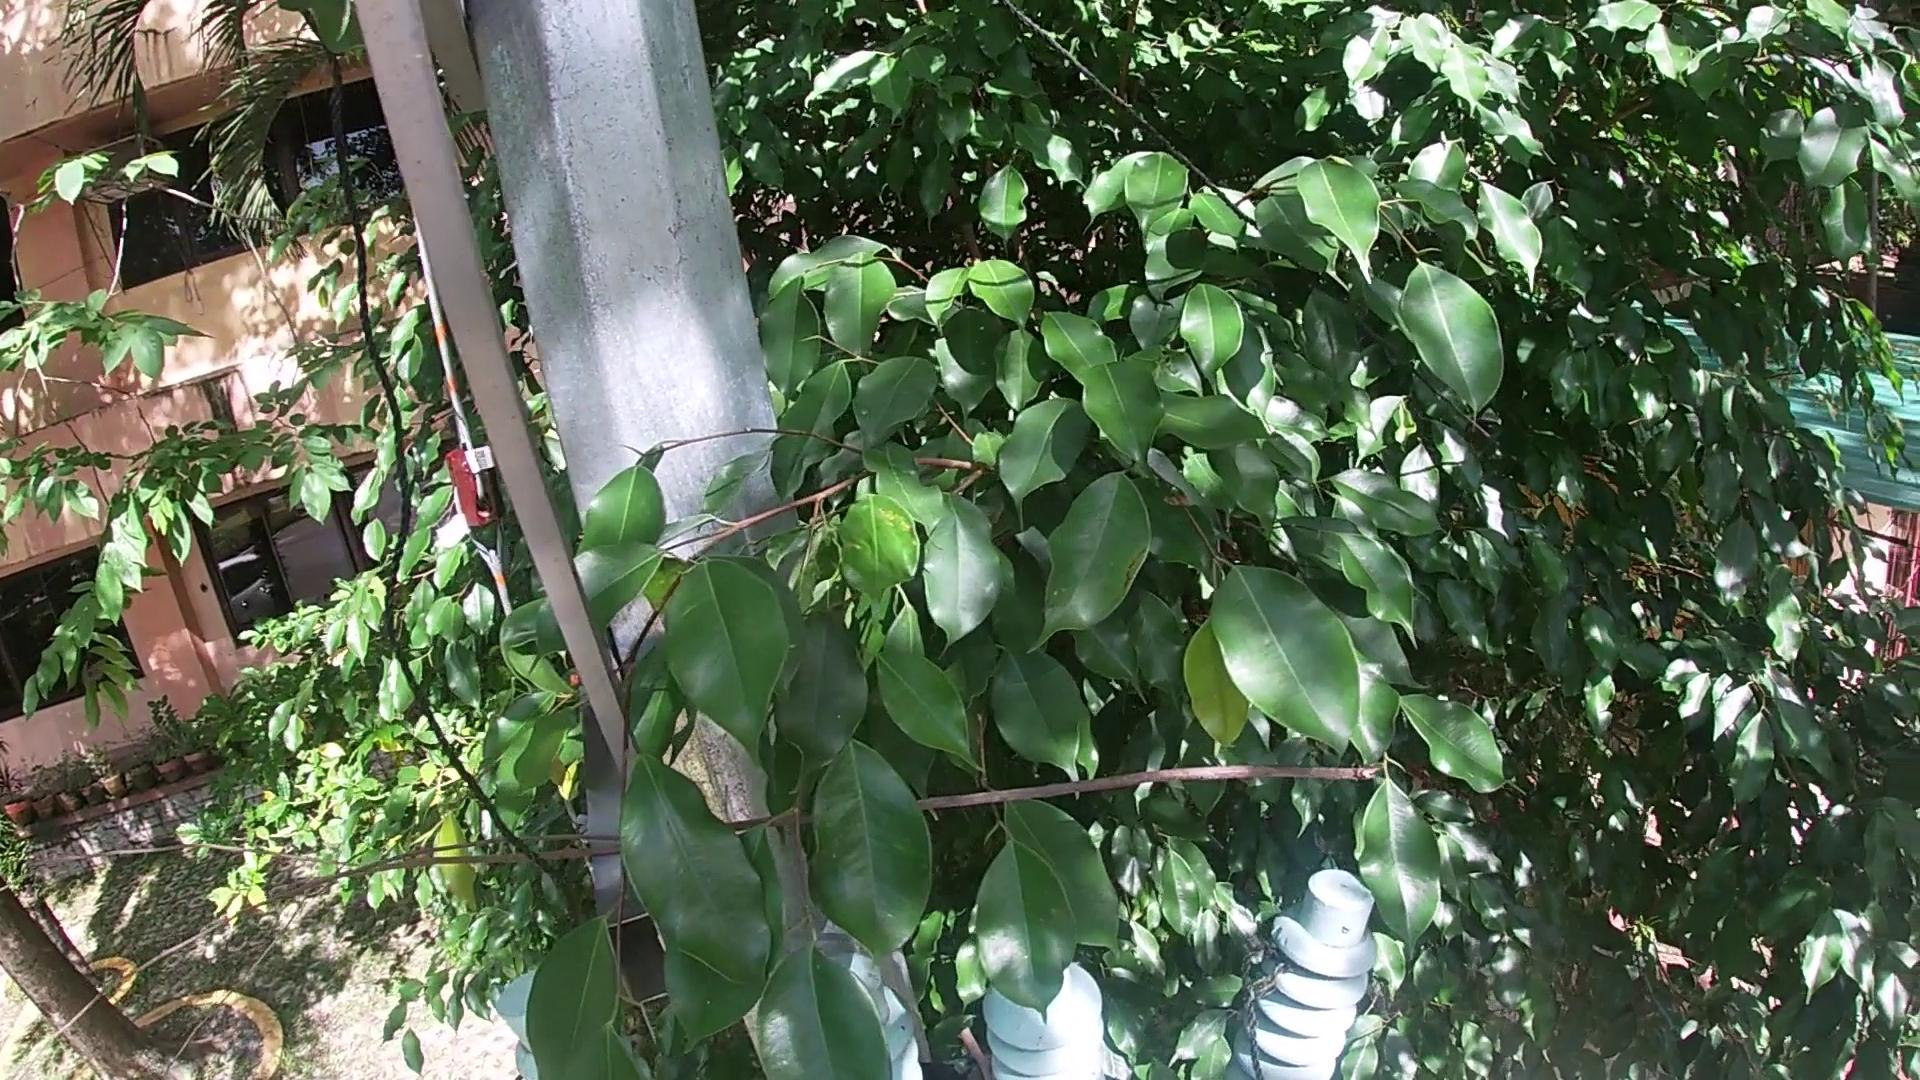tree branch: (26, 745, 1407, 1065)
